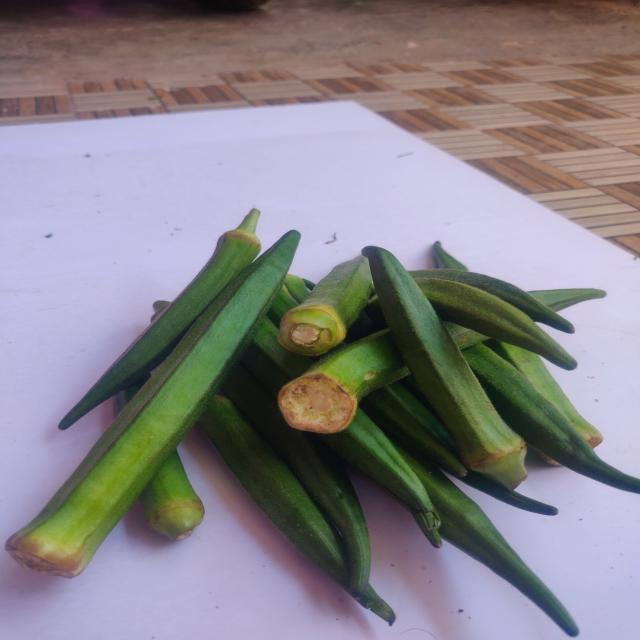Ladies Finger: (4, 230, 300, 578), (57, 208, 260, 430), (361, 246, 528, 490), (414, 278, 578, 370), (278, 255, 372, 356)
